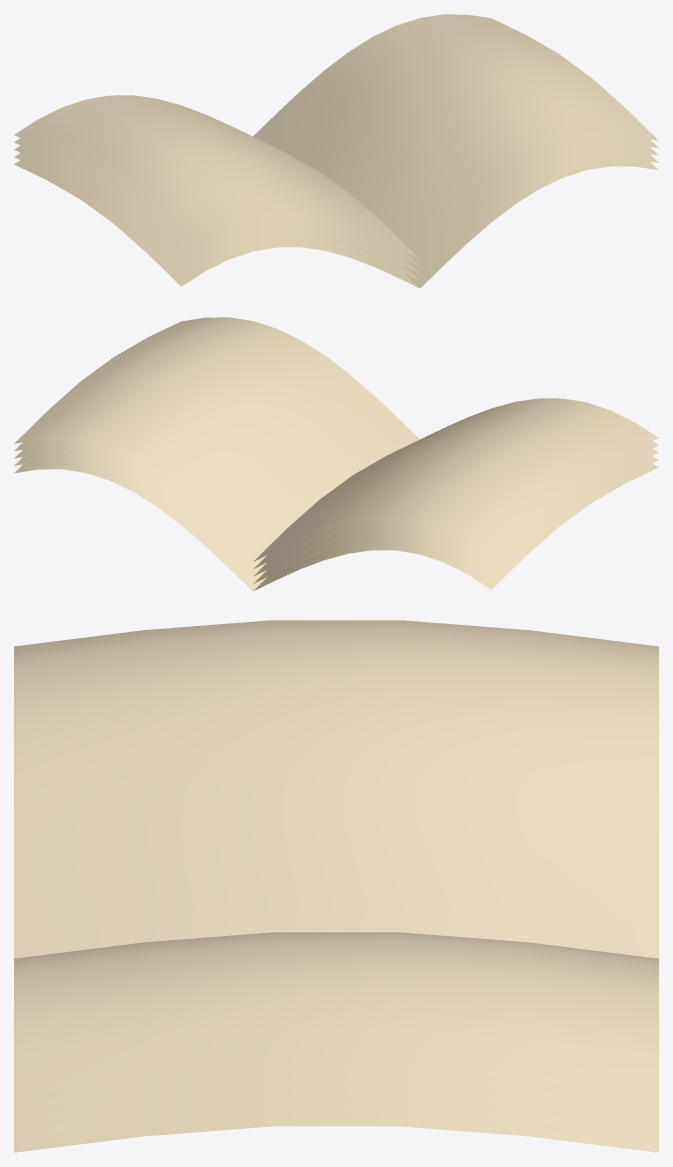
File: memory-signature.gltf
3 renders of one model, top to bottom at view 1: azimuth 30°, elevation 25°; view 2: azimuth 150°, elevation 25°; view 3: azimuth 270°, elevation 25°, orthographic. The views are drawn at different scales.
Visible parts, largest first — view 1: memory-signature; view 2: memory-signature; view 3: memory-signature.
Boxes of the visible parts, x1,y1,x2,y2 form: memory-signature: [14, 14, 658, 288]; memory-signature: [14, 317, 658, 591]; memory-signature: [14, 620, 658, 1152].
Size of the model in its own units: 1.22 by 0.2953 by 0.74.
